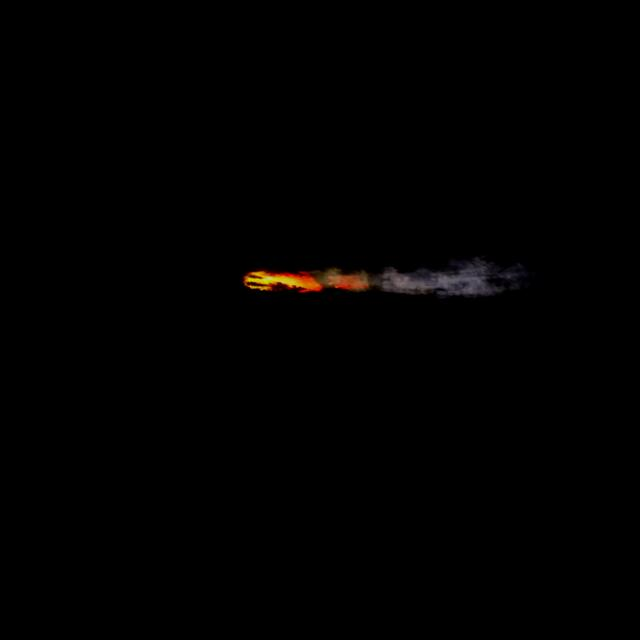fire: (246, 257, 366, 303)
smoke: (306, 236, 538, 316)
